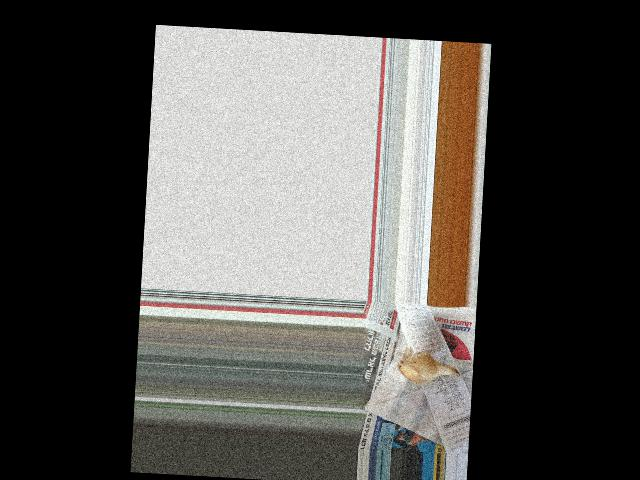onion: (402, 354, 445, 384)
